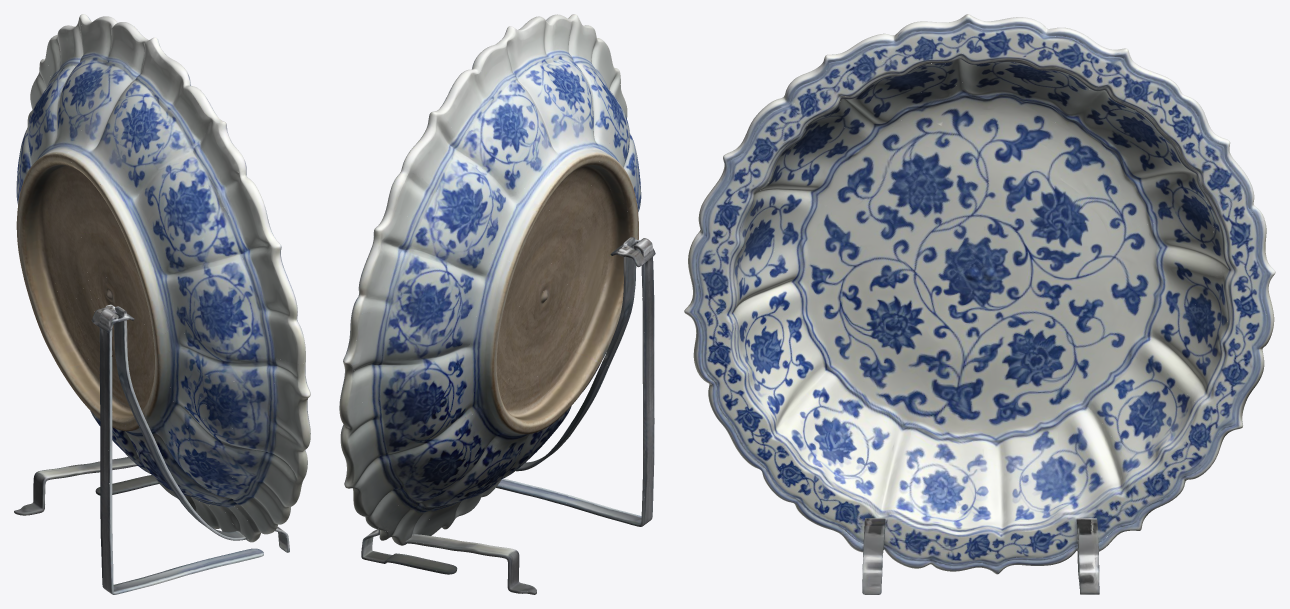
Rendered from ming-blue-white-plate.glb.
3 renders of one model, left to right at view 1: azimuth 30°, elevation 25°; view 2: azimuth 150°, elevation 25°; view 3: azimuth 270°, elevation 25°, orthographic. The views are drawn at different scales.
Visible parts, largest first — view 1: tripo_node_e8fd0d12-99cd-4eea-87a1-24b81f44228b; view 2: tripo_node_e8fd0d12-99cd-4eea-87a1-24b81f44228b; view 3: tripo_node_e8fd0d12-99cd-4eea-87a1-24b81f44228b.
Part boxes in pixels (<box>): tripo_node_e8fd0d12-99cd-4eea-87a1-24b81f44228b: <box>14,14,310,594</box>; tripo_node_e8fd0d12-99cd-4eea-87a1-24b81f44228b: <box>339,14,655,594</box>; tripo_node_e8fd0d12-99cd-4eea-87a1-24b81f44228b: <box>684,14,1275,594</box>.
Size of the model in its own units: 0.3712 by 0.9794 by 0.9789.
1 material, 1 textured.
